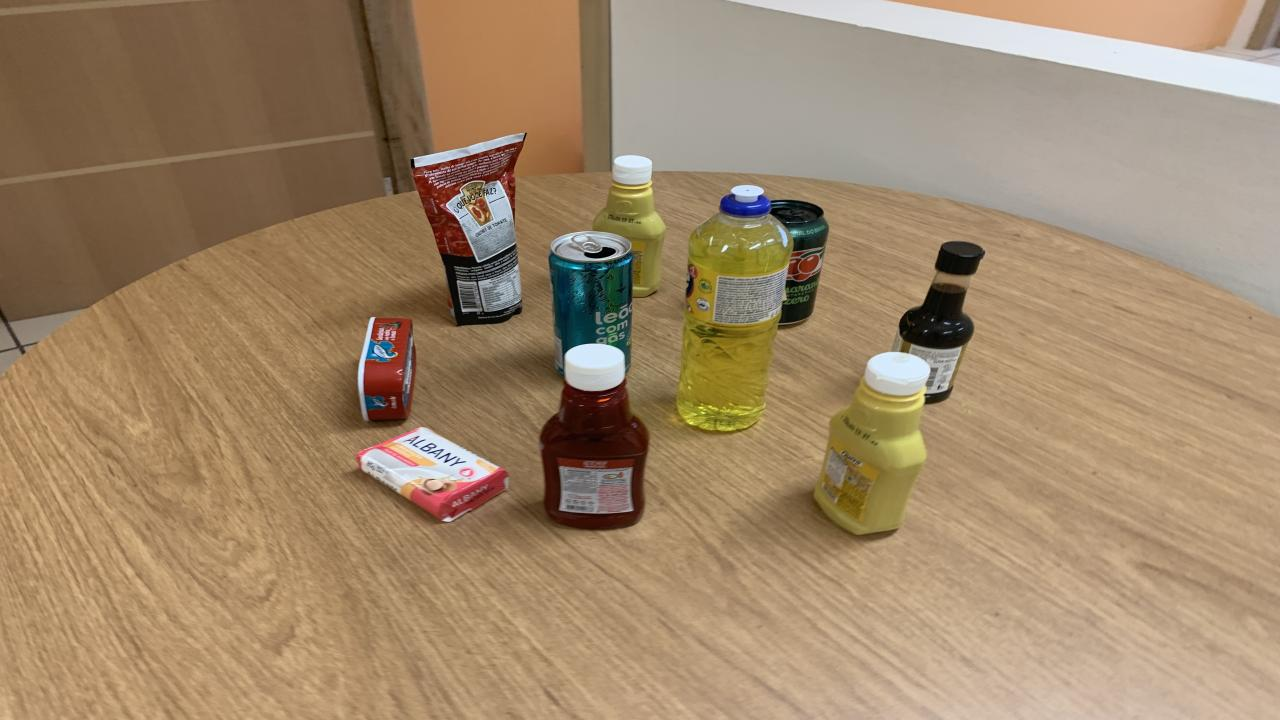Detergent-Cleanup_Items: (678, 186, 792, 431)
English_Sauce-Pantry_Items: (892, 242, 985, 403)
Guarana_Can-Drinks: (770, 199, 830, 326)
Ketchup-Pantry_Items: (540, 343, 650, 529)
Mustard-Pantry_Items: (815, 352, 930, 534), (592, 156, 665, 296)
Soap-Cleanup_Items: (358, 428, 510, 521)
Tea-Drinks: (550, 231, 632, 373)
Tomato_Sauce-Pantry_Items: (412, 133, 525, 324)
Tuna_Can-Pantry_Items: (358, 317, 415, 420)
